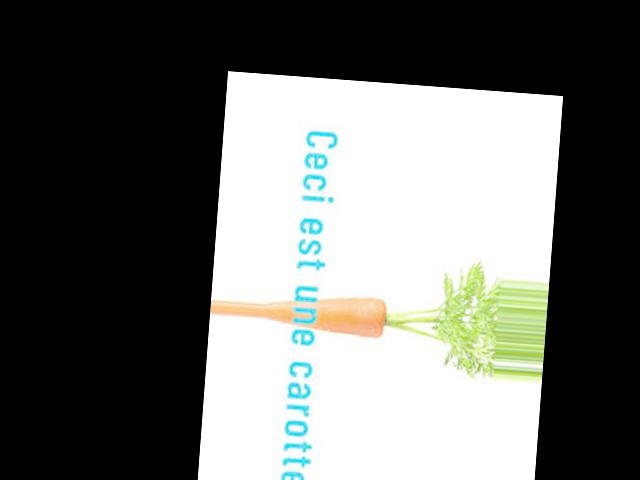carrot: (261, 285, 389, 347)
